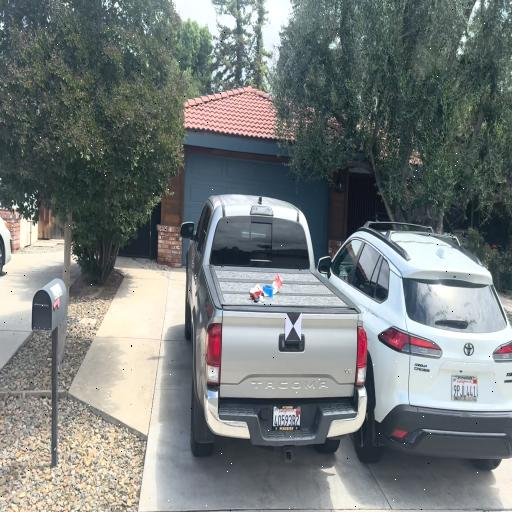target: (285, 312, 301, 341)
